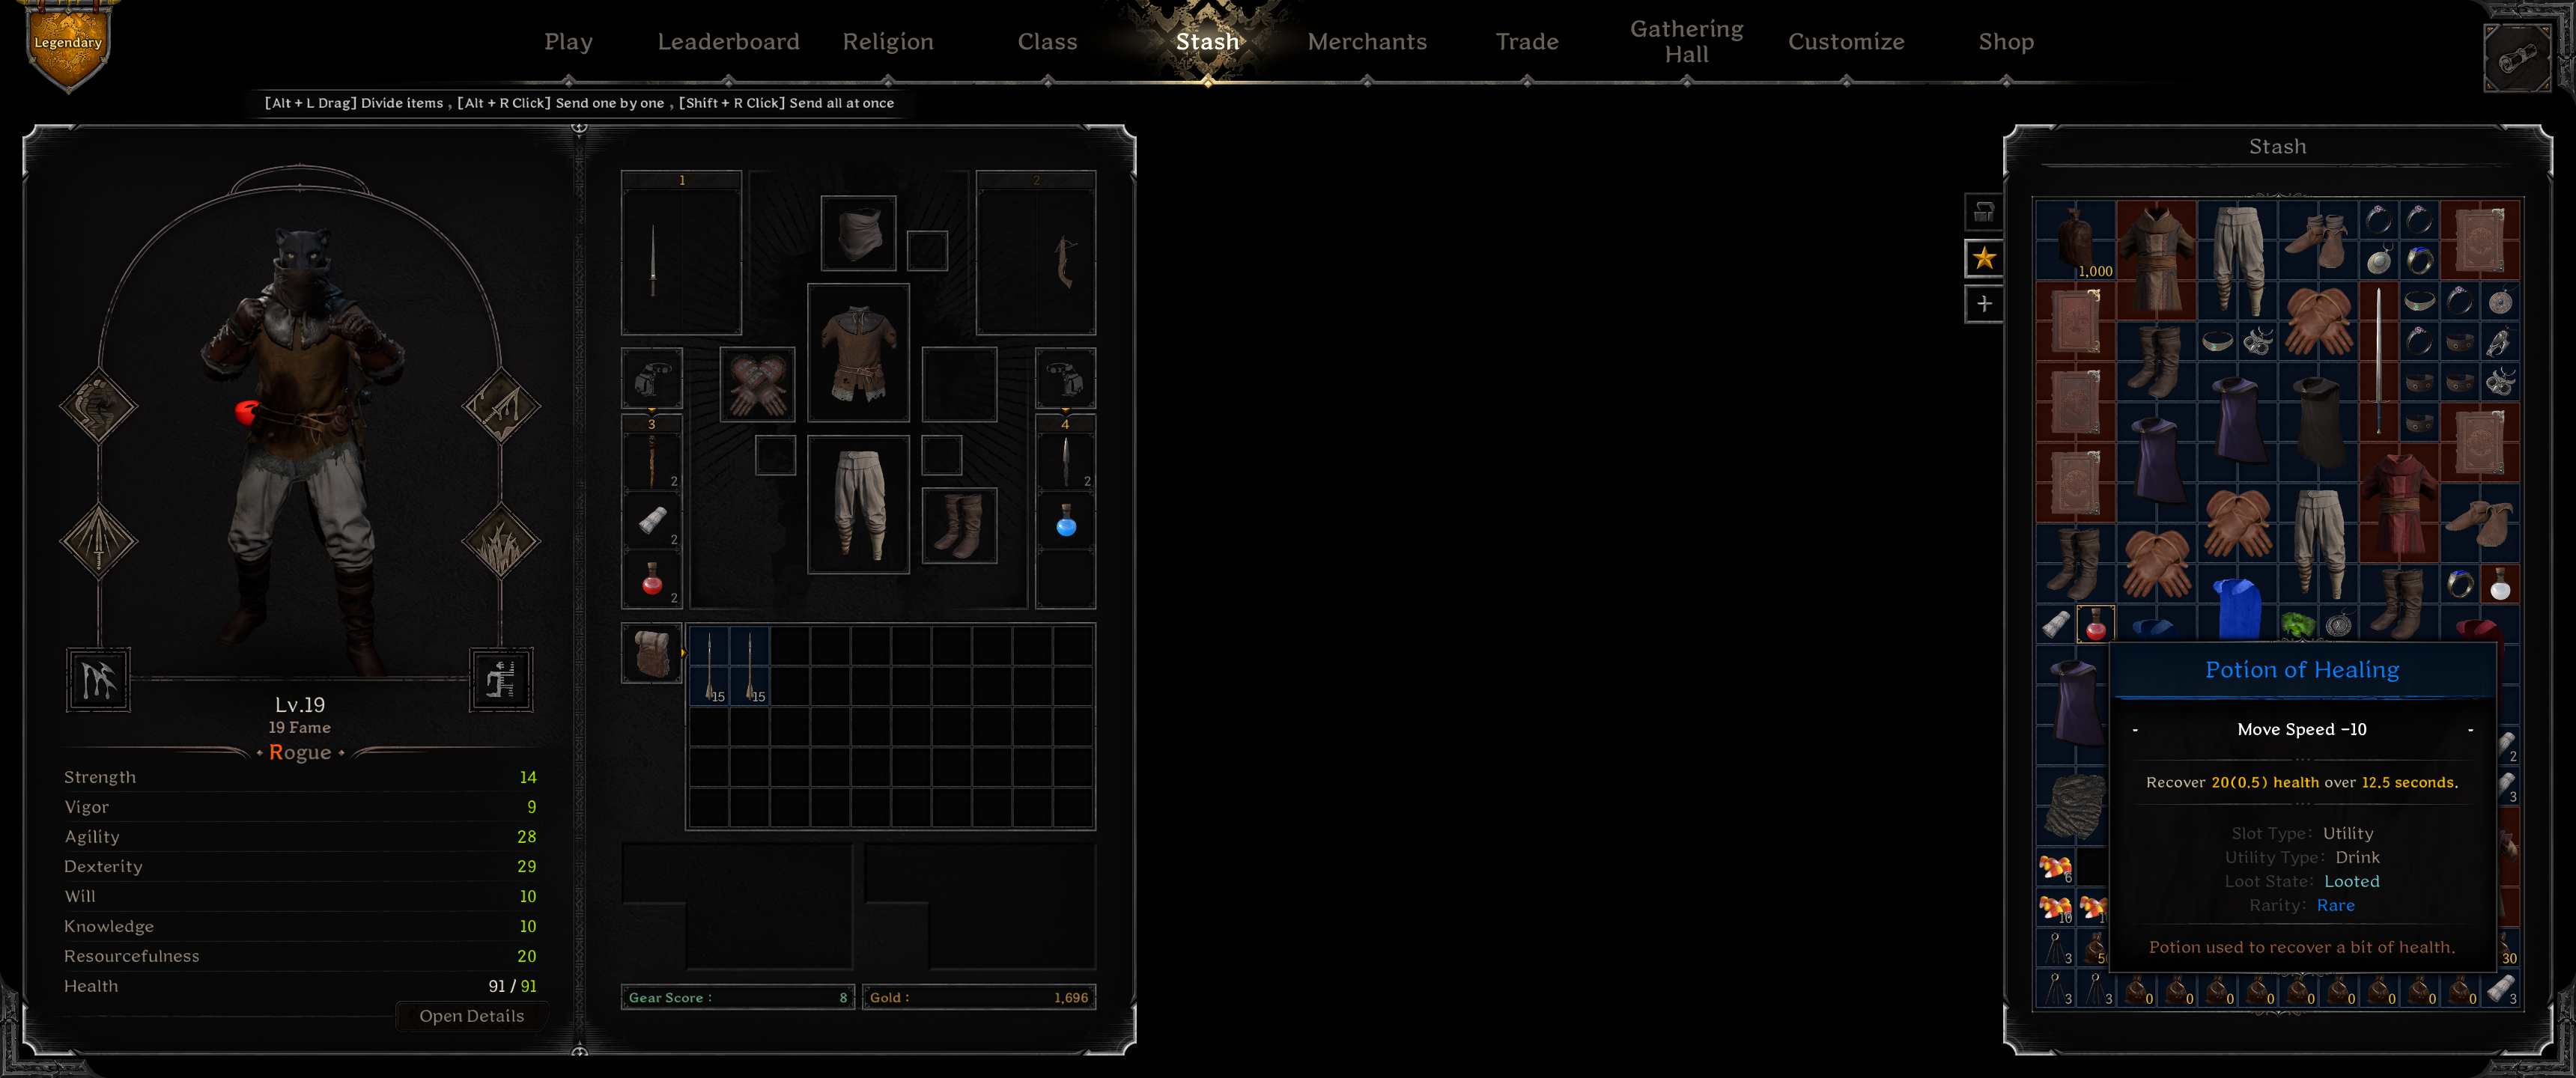Tooltip: (2108, 641, 2497, 973)
